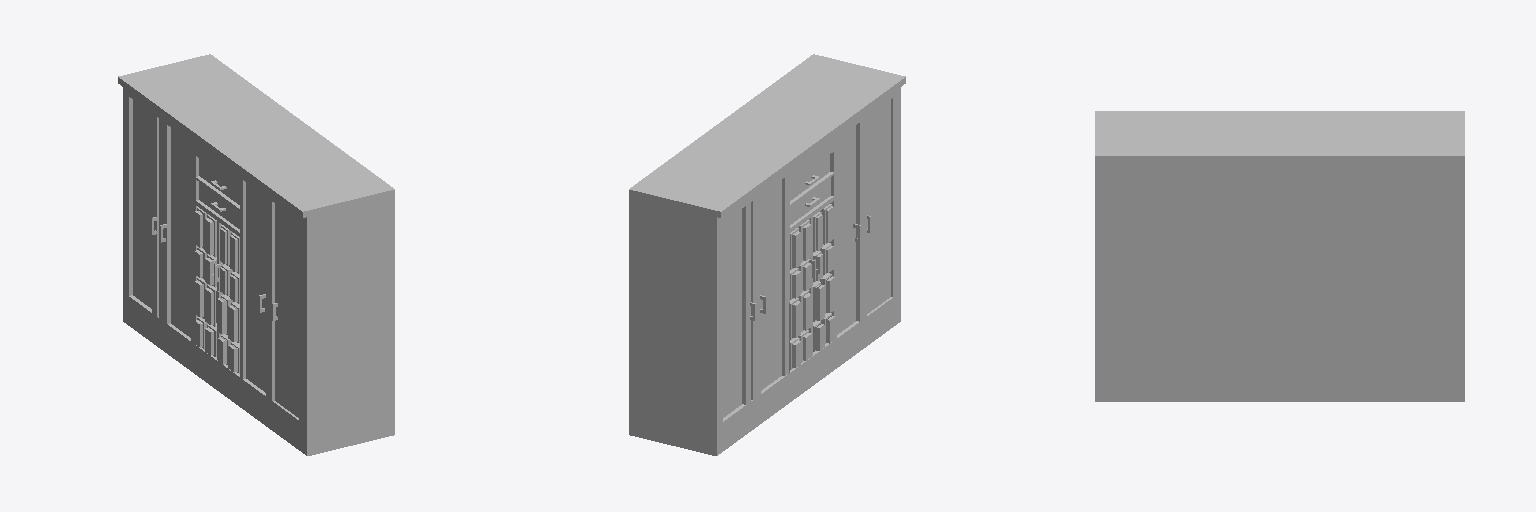
The model's file is wardrobe.obj.
3 renders of one model, left to right at view 1: azimuth 30°, elevation 25°; view 2: azimuth 150°, elevation 25°; view 3: azimuth 270°, elevation 25°, orthographic.
Visible parts, largest first — view 1: Cube.009_Cube.019; view 2: Cube.009_Cube.019; view 3: Cube.009_Cube.019.
Part boxes in pixels (x1,y1,x2,y2): Cube.009_Cube.019: (118, 54, 394, 455); Cube.009_Cube.019: (629, 54, 905, 455); Cube.009_Cube.019: (1095, 111, 1464, 401).
Size of the model in its own units: 0.891 by 2.23 by 3.04.